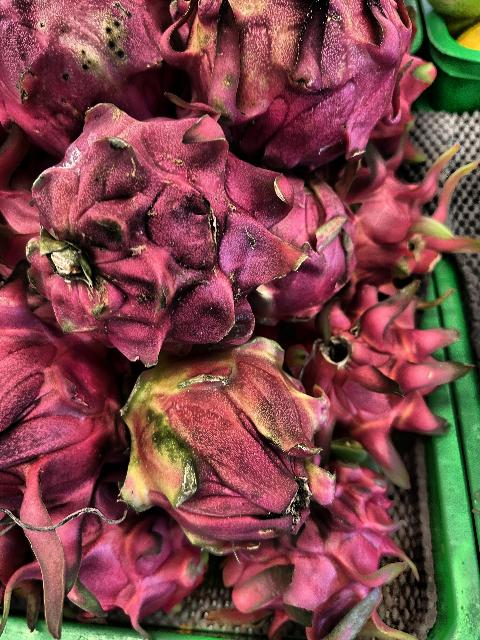buah-naga-belum-matang: (119, 358, 335, 544)
buah-naga-matang: (18, 114, 300, 342), (168, 0, 420, 170), (0, 277, 126, 613), (0, 0, 176, 162)
